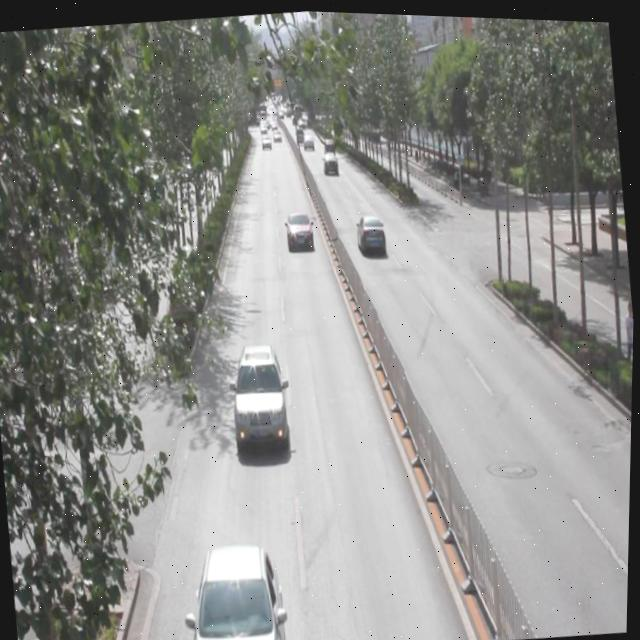car: (179, 538, 291, 640), (228, 336, 294, 449), (354, 207, 390, 256), (284, 205, 316, 252), (321, 148, 341, 172), (260, 128, 273, 150), (302, 128, 316, 148), (322, 133, 335, 153), (272, 124, 283, 140)
truck: (294, 123, 305, 140)
